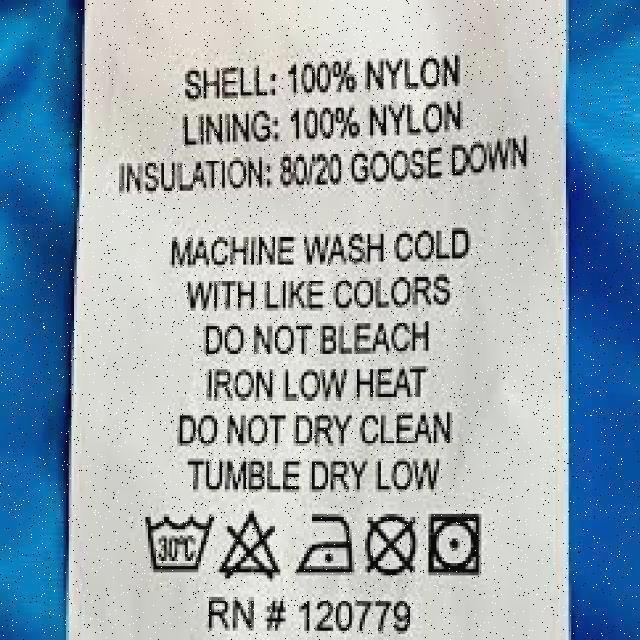30C: (137, 509, 219, 577)
DN_bleach: (217, 508, 284, 581)
DN_dry_clean: (361, 510, 419, 579)
iron_low: (300, 509, 352, 576)
tumble_dry_low: (420, 506, 488, 579)
